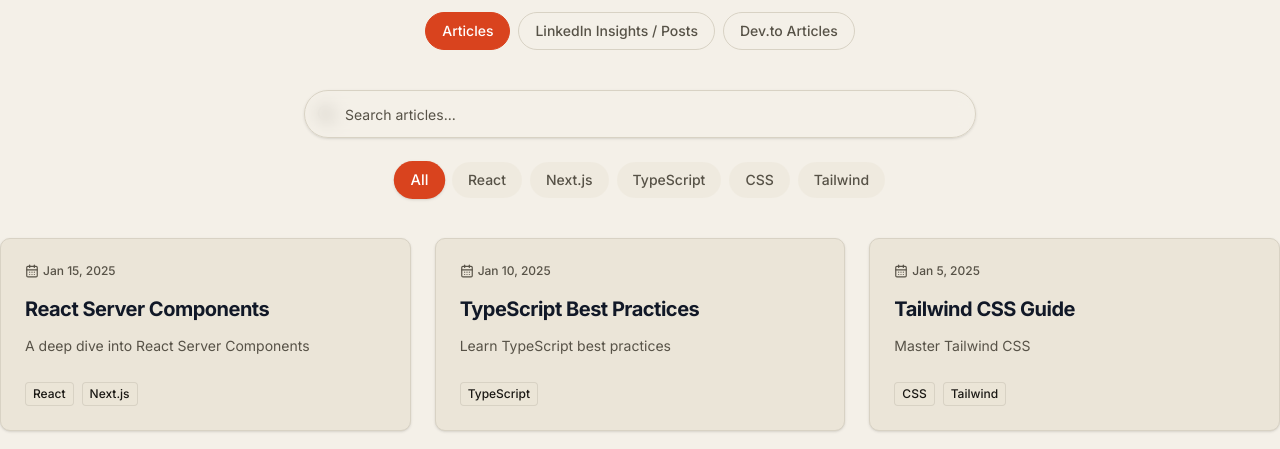
it: BlogList › should filter posts by search query
In the field with placeholder "Search articles...": (640, 114) left=304, top=90, right=976, bottom=138, type "React"
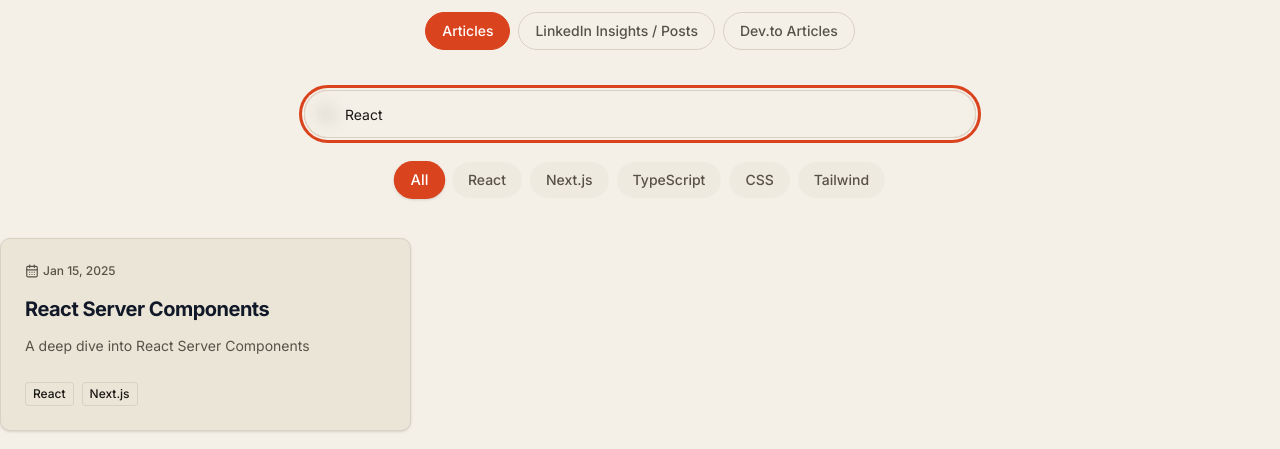
Expected: the heading "React Server Components" is shown, left=25, top=297, right=269, bottom=321
Expected: the link "TypeScript Best Practices" is gone
Expected: the link "Tailwind CSS Guide" is gone
